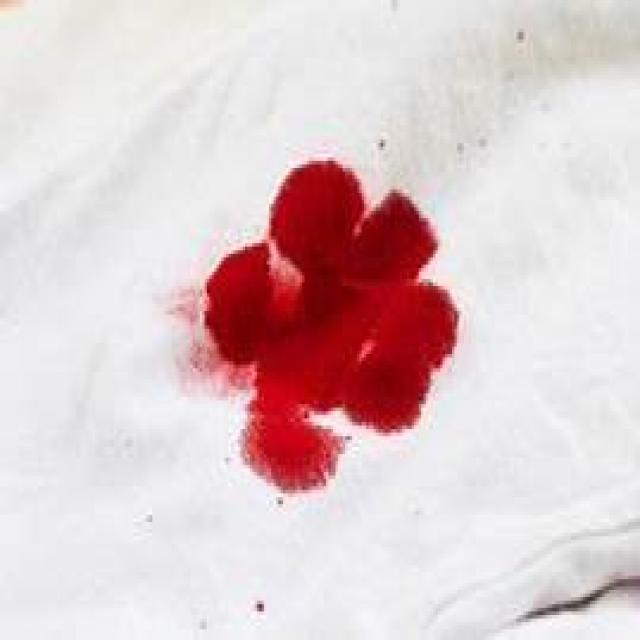wound: (173, 136, 482, 508)
